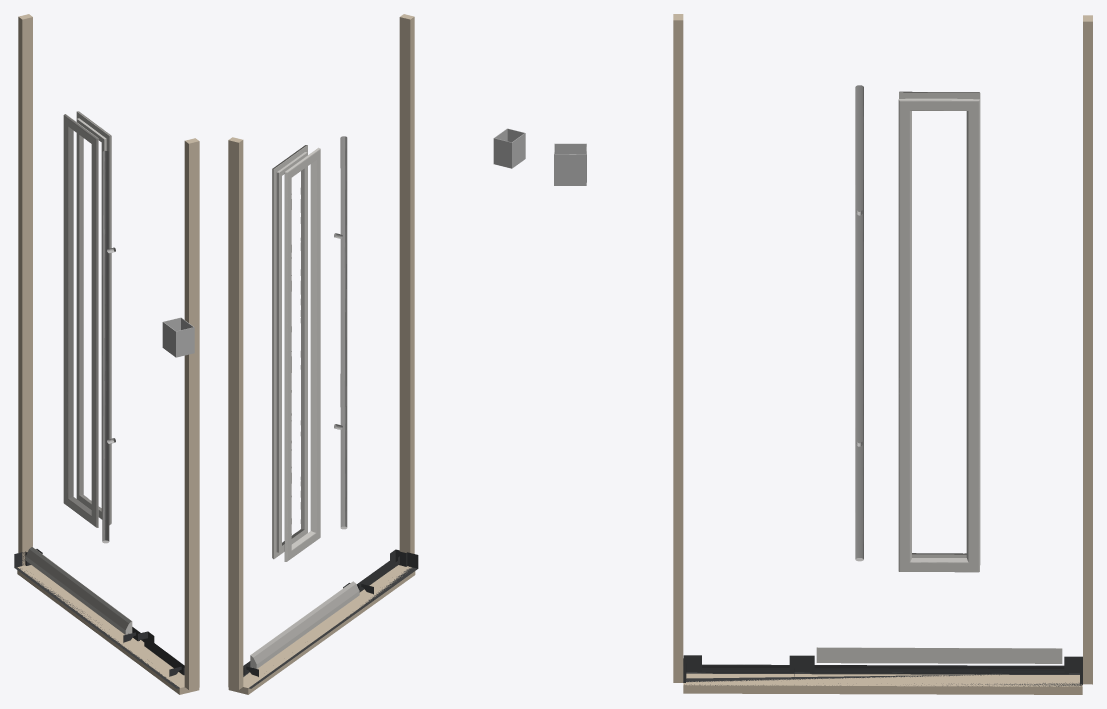
3 views of the same model, side by side, from view 1: azimuth 30°, elevation 25°; view 2: azimuth 150°, elevation 25°; view 3: azimuth 270°, elevation 25° (orthographic). The views are drawn at different scales.
Bounding box in the file's own units: 0.3983 × 2.67 × 1.94.
